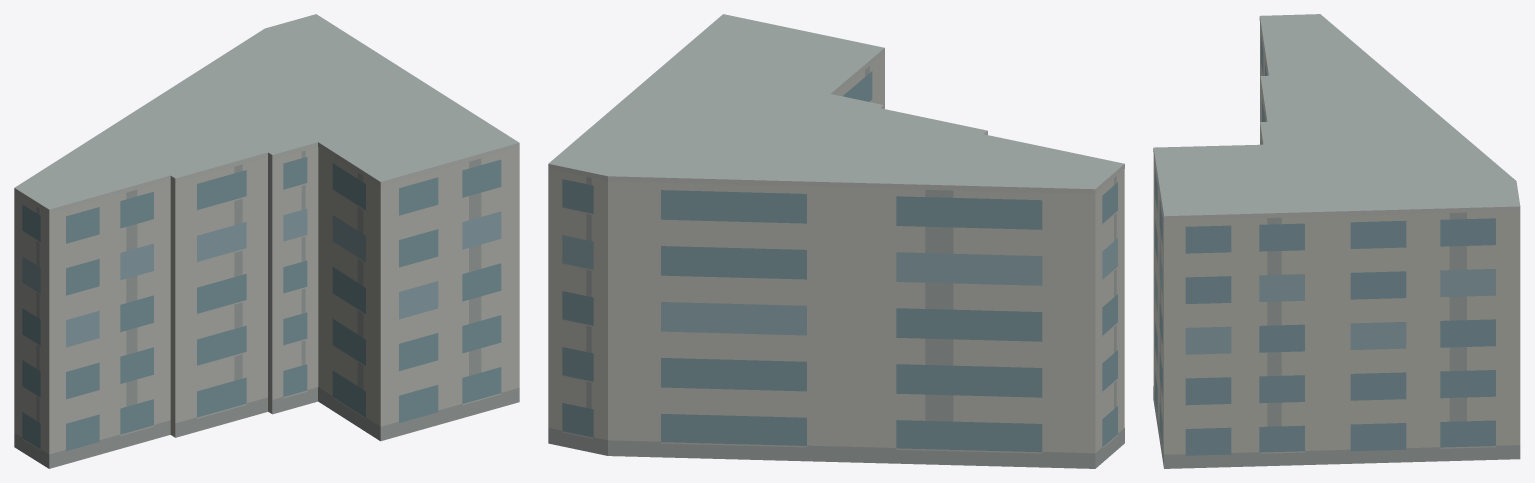
The model's file is survey-upis-32637760.glb.
3 renders of one model, left to right at view 1: azimuth 30°, elevation 25°; view 2: azimuth 150°, elevation 25°; view 3: azimuth 270°, elevation 25°, orthographic. The views are drawn at different scales.
Visible parts, largest first — view 1: survey-upis-32637760.tmp; view 2: survey-upis-32637760.tmp; view 3: survey-upis-32637760.tmp.
Part boxes in pixels (x1,y1,x2,y2): survey-upis-32637760.tmp: [14, 14, 519, 468]; survey-upis-32637760.tmp: [548, 14, 1124, 468]; survey-upis-32637760.tmp: [1153, 14, 1520, 468].
Bounding box in the file's own units: 22.66 × 13.2 × 17.37.
